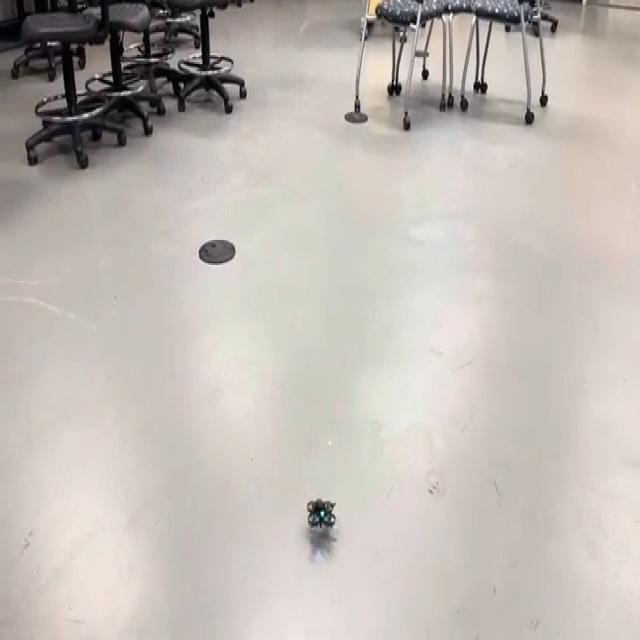drone: (299, 488, 343, 544)
